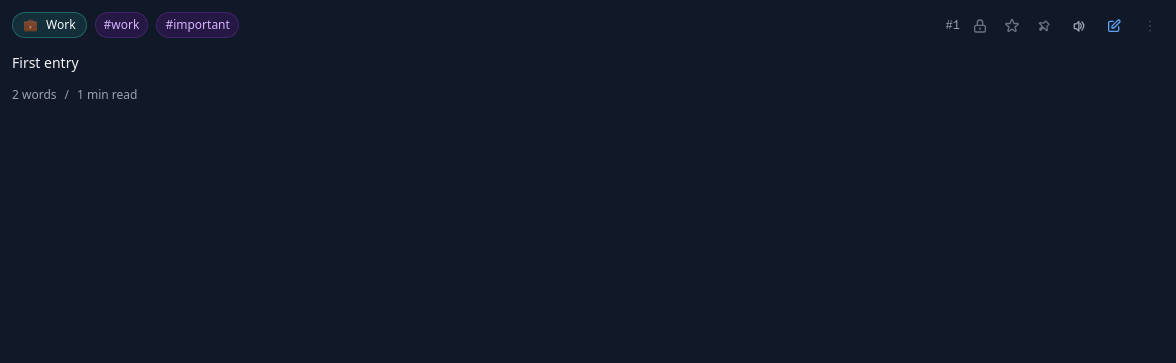
Scenario: EntryViewMode › shows the mood an earlier version had in the history
The width and height of the screenshot is (1176, 363).
Click the button named "More actions" at (1150, 26), box [1136,12,1164,40]
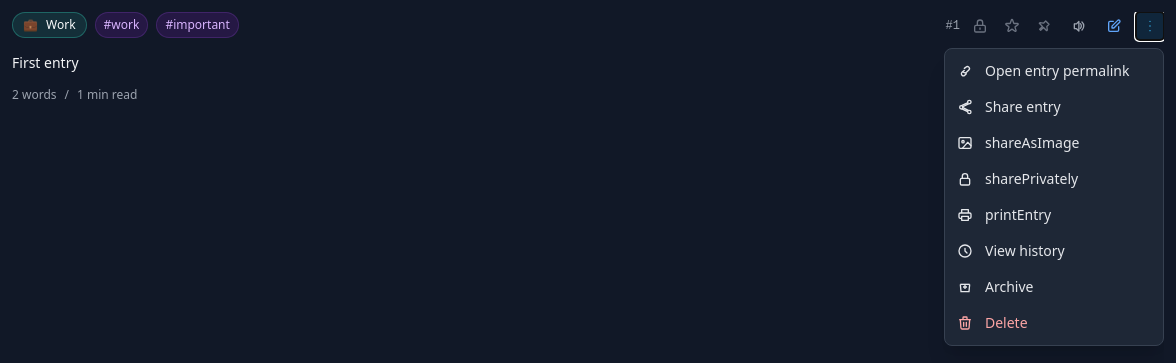
Click the menu item titled "View history" at (1054, 251), box [945,233,1163,269]
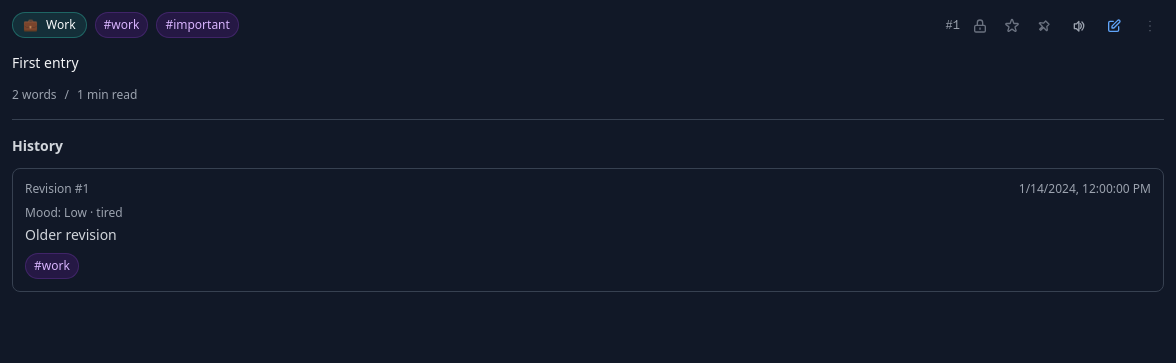
Expected: the text "Mood: Low · tired" is shown, [25,204,123,221]
